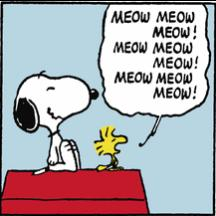snoopy: (13, 68, 101, 176)
